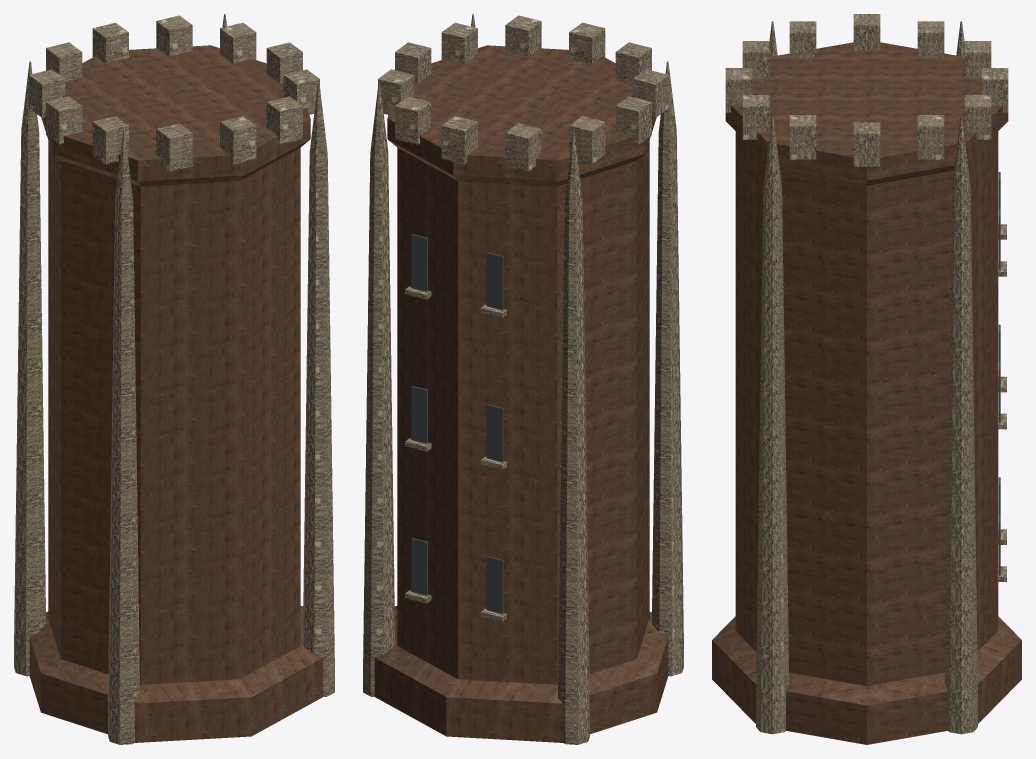
File: citadel_bastion.glb
The picture shows the model from 3 angles, left to right: view 1: azimuth 30°, elevation 25°; view 2: azimuth 150°, elevation 25°; view 3: azimuth 270°, elevation 25°; orthographic projection.
Parts seen in each view (by area): view 1: Bastion mass; view 2: Bastion mass; view 3: Bastion mass.
Part boxes in pixels (left/top/right/bottom): Bastion mass: left=14, top=14, right=334, bottom=744; Bastion mass: left=363, top=14, right=683, bottom=744; Bastion mass: left=712, top=14, right=1021, bottom=744.
Size of the model in its own units: 9.2 by 20 by 9.2.
Materials: 3 (2 with a texture image).
